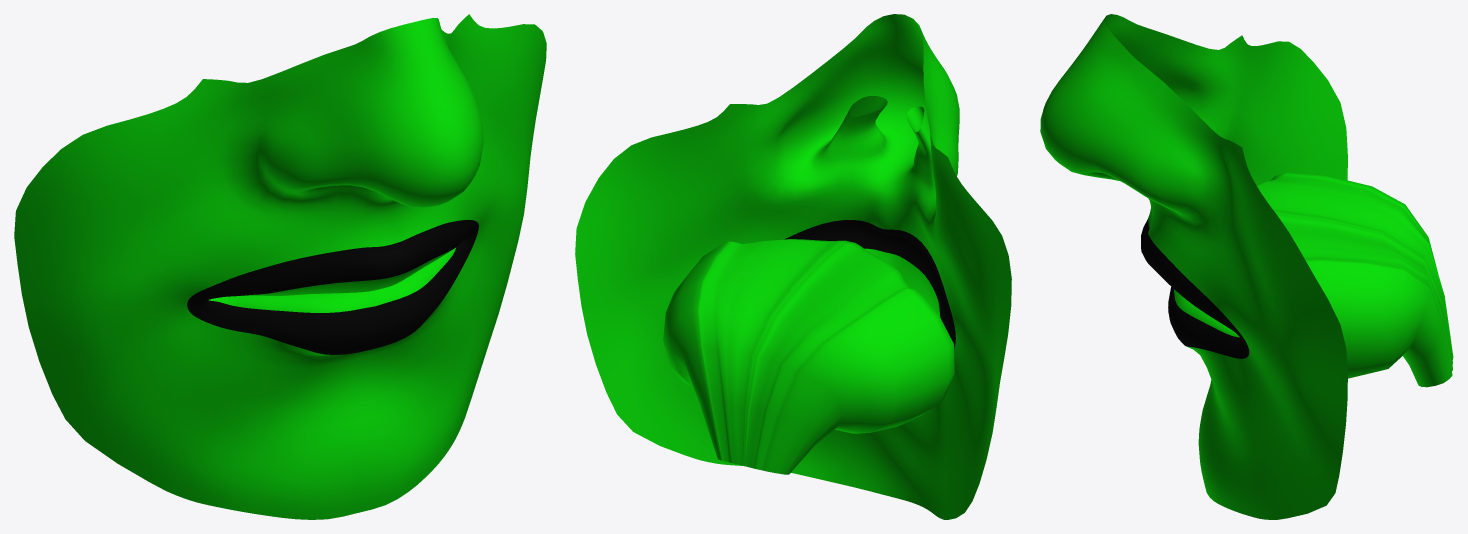
The model's file is fin_mouth.fbx.
The picture shows the model from 3 angles, left to right: view 1: azimuth 30°, elevation 25°; view 2: azimuth 150°, elevation 25°; view 3: azimuth 270°, elevation 25°; orthographic projection. The views are drawn at different scales.
Parts seen in each view (by area): view 1: robot:polySurface5; view 2: robot:polySurface5; view 3: robot:polySurface5.
Boxes of the visible parts, x1,y1,x2,y2 form: robot:polySurface5: (14,14,546,519); robot:polySurface5: (575,14,1011,519); robot:polySurface5: (1040,14,1453,519).
Size of the model in its own units: 34.32 by 33.29 by 26.99.
